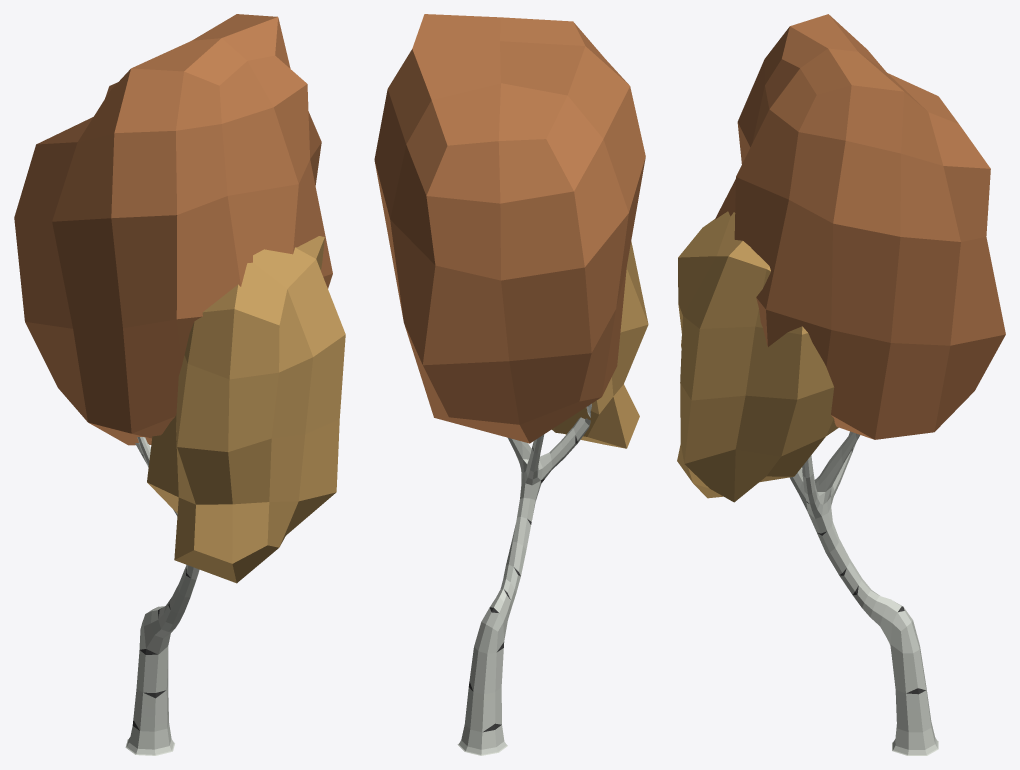
The model's file is birchtree_autumn_2.glb.
3 views of the same model, side by side, from view 1: azimuth 30°, elevation 25°; view 2: azimuth 150°, elevation 25°; view 3: azimuth 270°, elevation 25° (orthographic). The views are drawn at different scales.
Visible parts, largest first — view 1: BirchTree_Autumn_2; view 2: BirchTree_Autumn_2; view 3: BirchTree_Autumn_2.
Part boxes in pixels (<box>): BirchTree_Autumn_2: <box>14,14,345,755</box>; BirchTree_Autumn_2: <box>374,14,648,755</box>; BirchTree_Autumn_2: <box>677,14,1005,755</box>.
Size of the model in its own units: 1.47 by 4.03 by 1.69.
